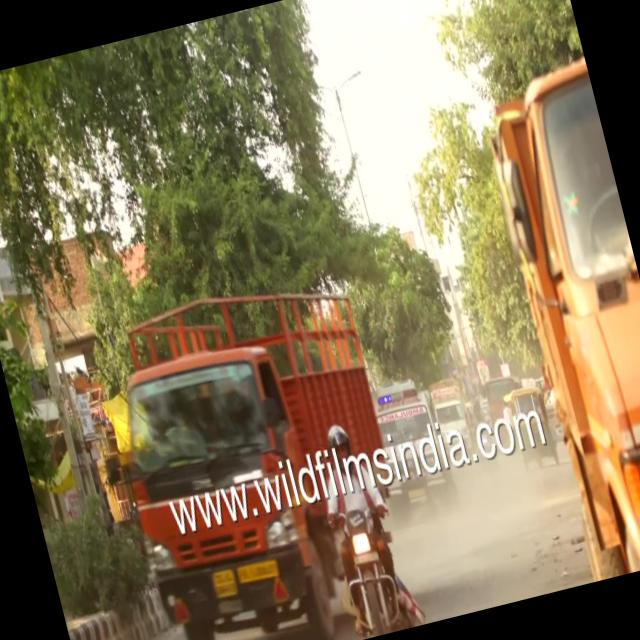ambulance: (372, 376, 442, 442)
